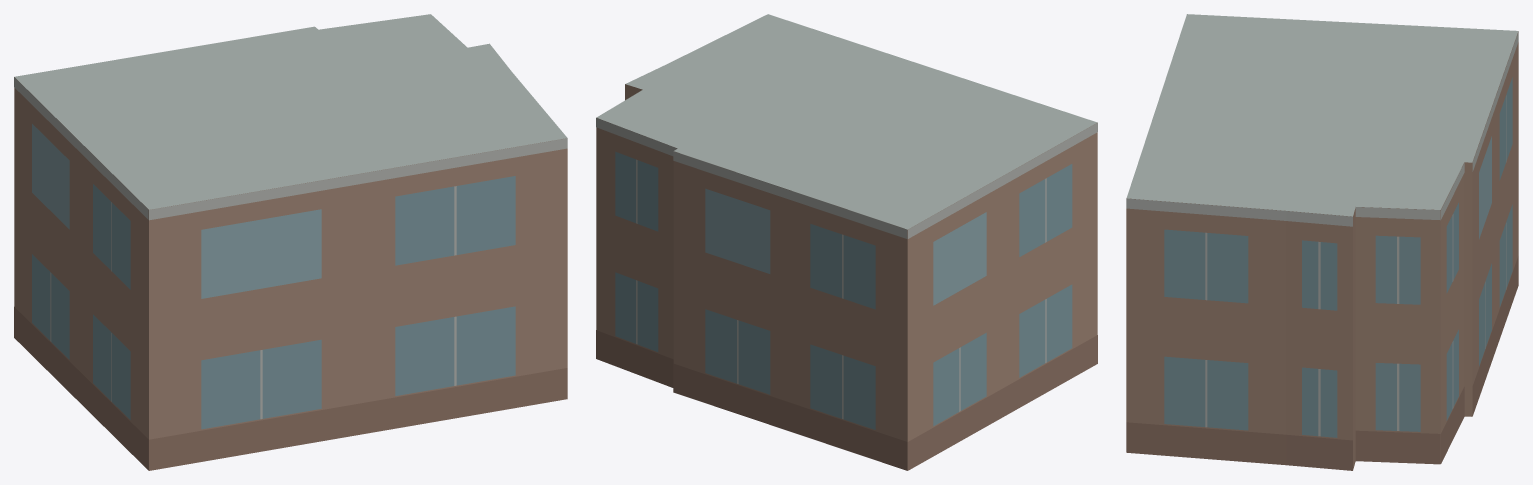
The model's file is survey-upis-32682300.glb.
3 views of the same model, side by side, from view 1: azimuth 30°, elevation 25°; view 2: azimuth 150°, elevation 25°; view 3: azimuth 270°, elevation 25° (orthographic). The views are drawn at different scales.
Visible parts, largest first — view 1: survey-upis-32682300.tmp; view 2: survey-upis-32682300.tmp; view 3: survey-upis-32682300.tmp.
Part boxes in pixels (box(x1,y1,x2,y2)): survey-upis-32682300.tmp: box(14, 14, 567, 470); survey-upis-32682300.tmp: box(596, 14, 1097, 470); survey-upis-32682300.tmp: box(1126, 14, 1518, 470).
Bounding box in the file's own units: 10.43 × 6.1 × 8.54.
